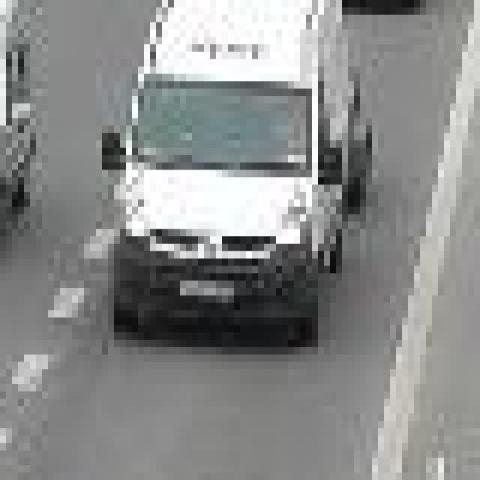van: (111, 0, 345, 347)
